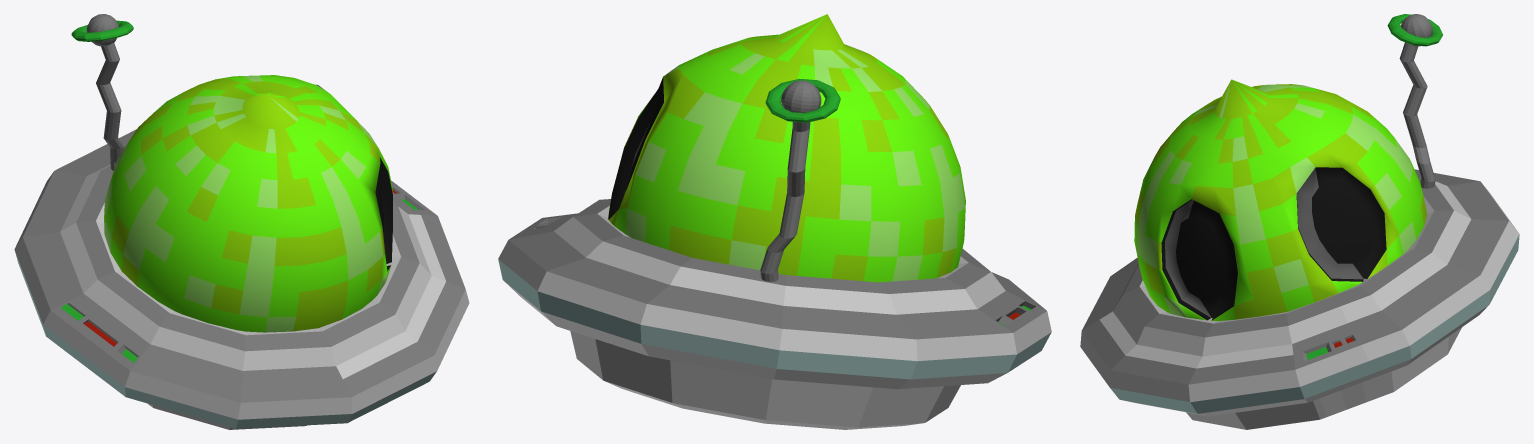
File: AnimationOvni.fbx
The picture shows the model from 3 angles, left to right: view 1: azimuth 30°, elevation 25°; view 2: azimuth 150°, elevation 25°; view 3: azimuth 270°, elevation 25°; orthographic projection. The views are drawn at different scales.
Visible parts, largest first — view 1: Torus.002; view 2: Torus.002; view 3: Torus.002.
Part boxes in pixels (left/top/right/bottom): Torus.002: left=14, top=14, right=469, bottom=429; Torus.002: left=498, top=14, right=1051, bottom=429; Torus.002: left=1080, top=14, right=1519, bottom=429.
Bounding box in the file's own units: 310 × 254 × 298.
